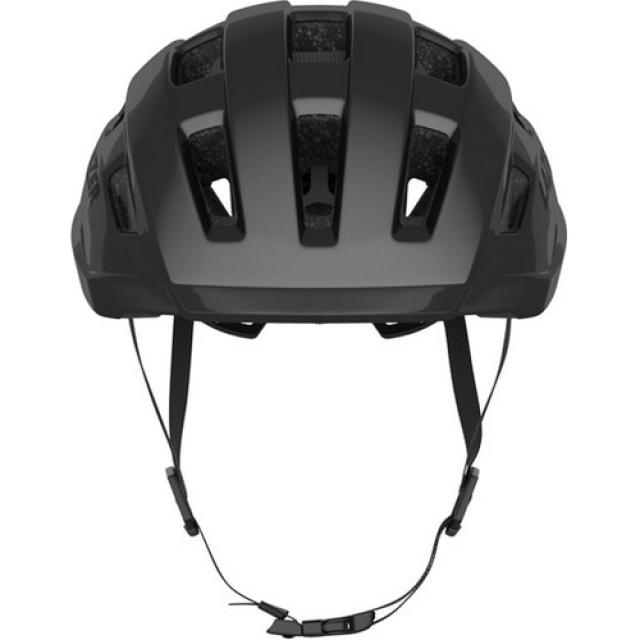illegal_helmet: (65, 3, 574, 640)
